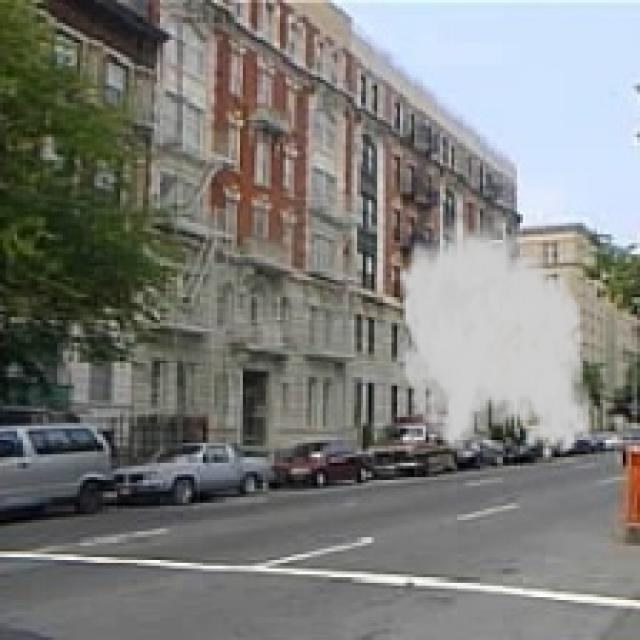Smoke: (386, 206, 594, 463)
